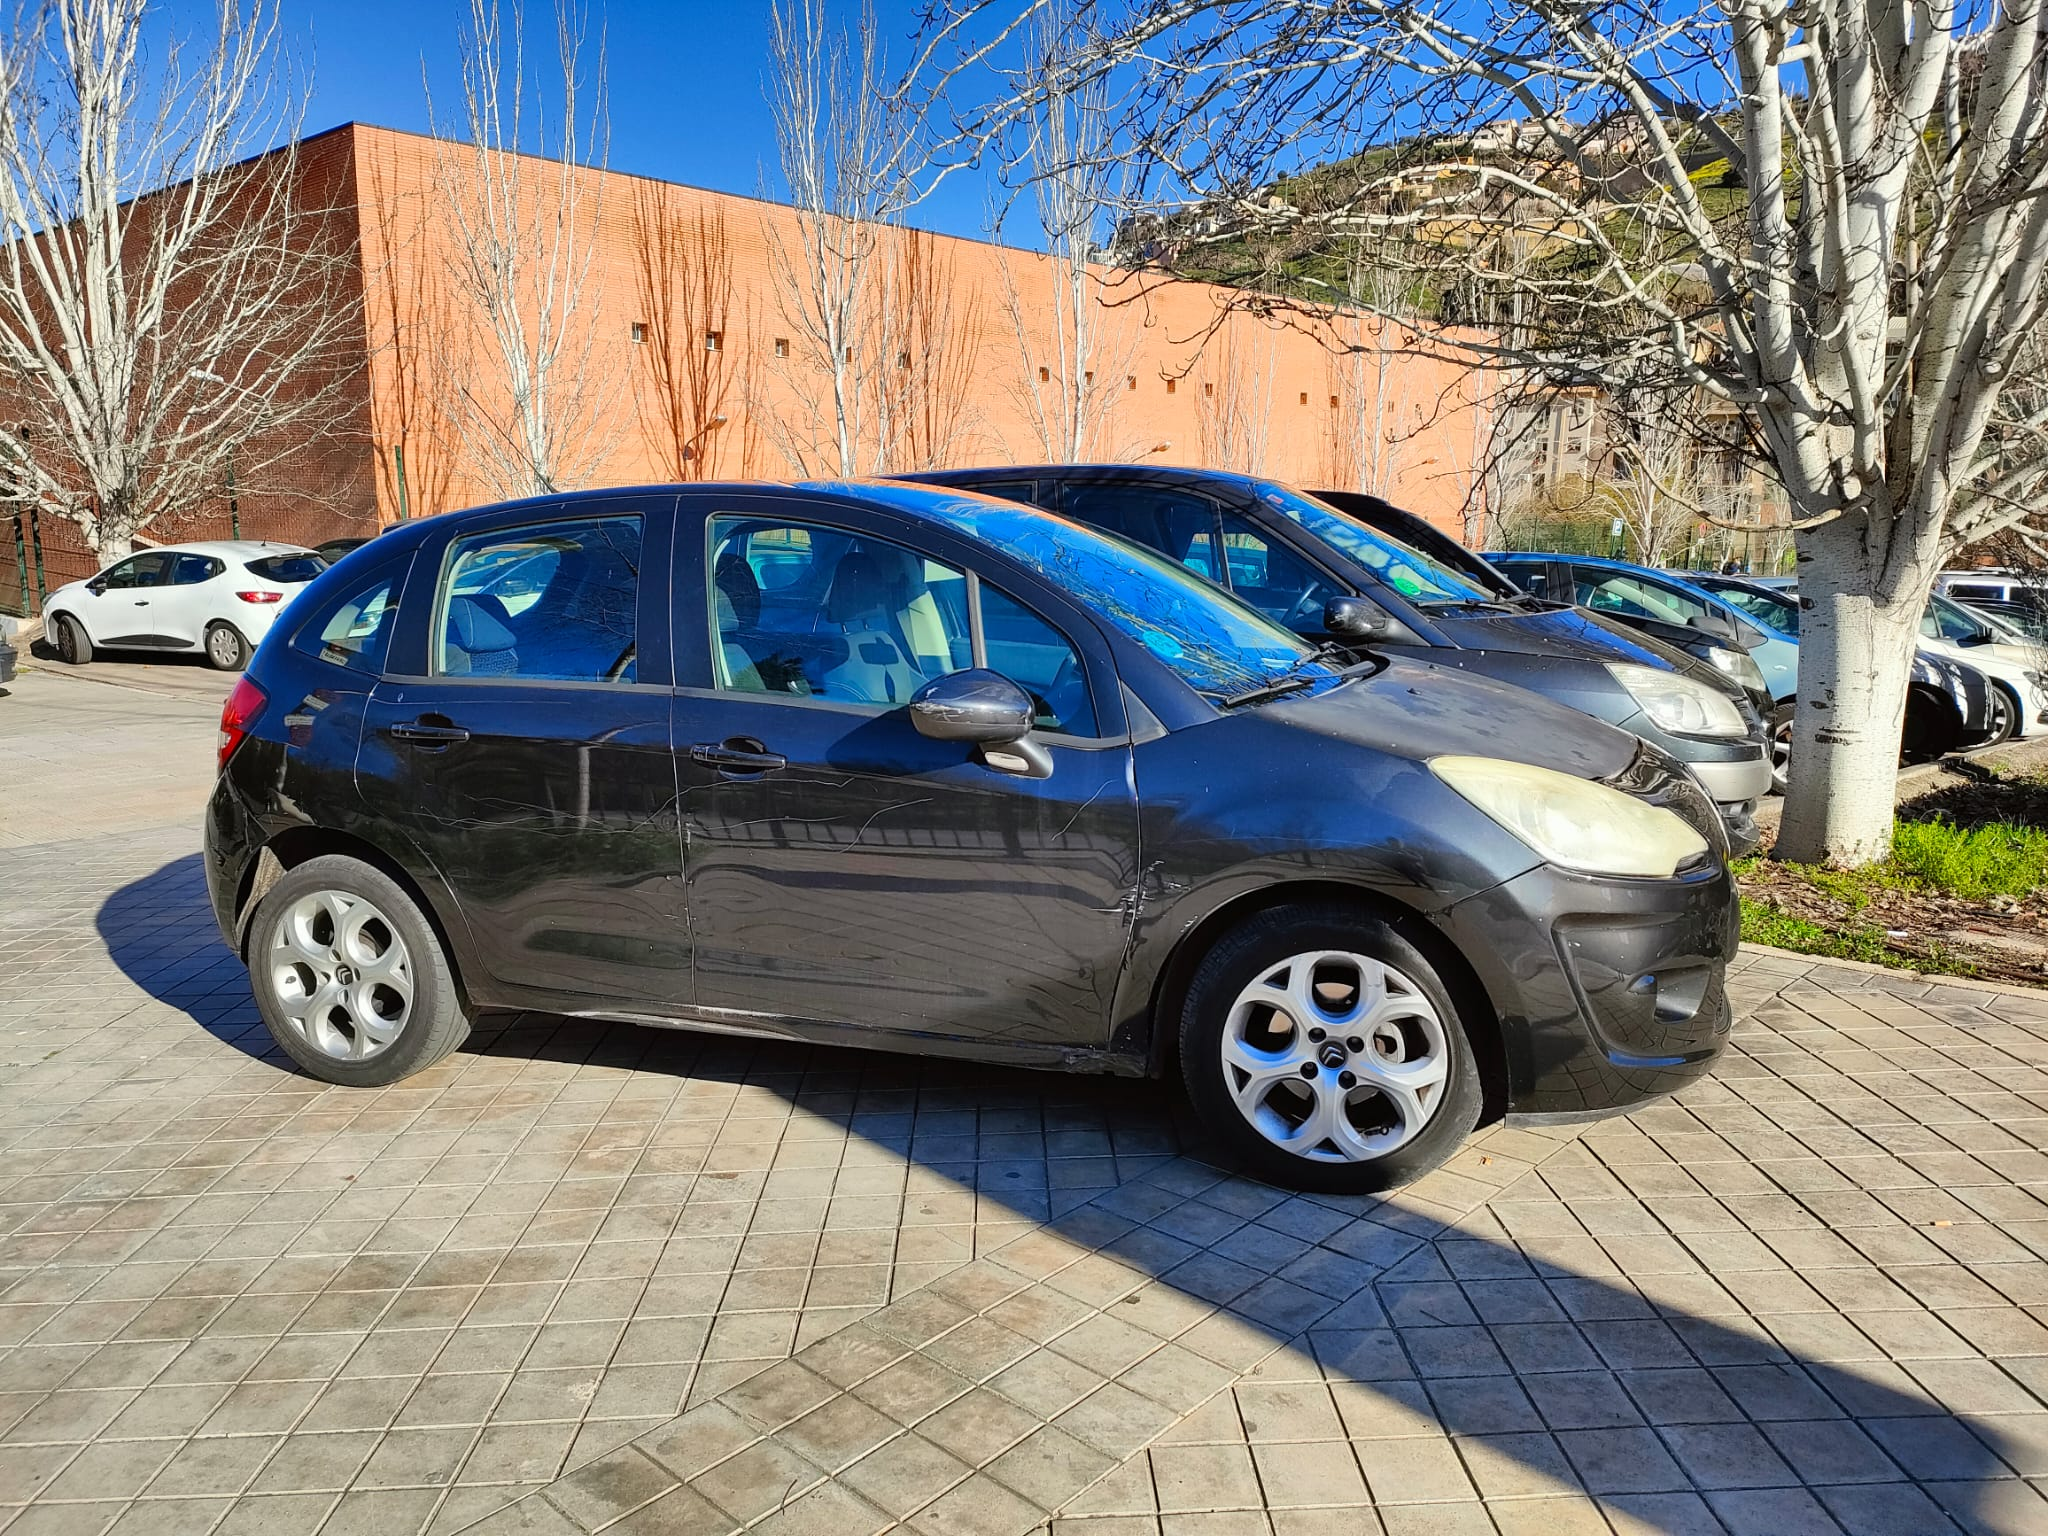car: (213, 486, 1759, 1294), (916, 452, 1792, 842), (31, 531, 337, 684), (1922, 582, 2046, 778)
